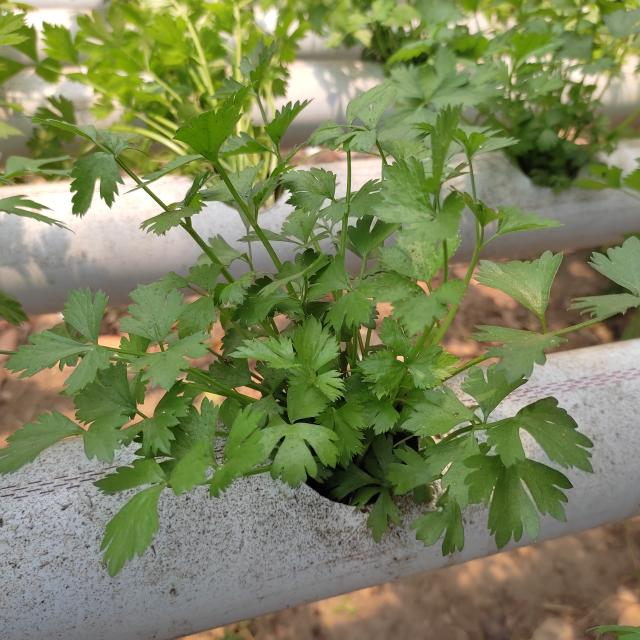Wet Waste: (44, 112, 587, 548)
